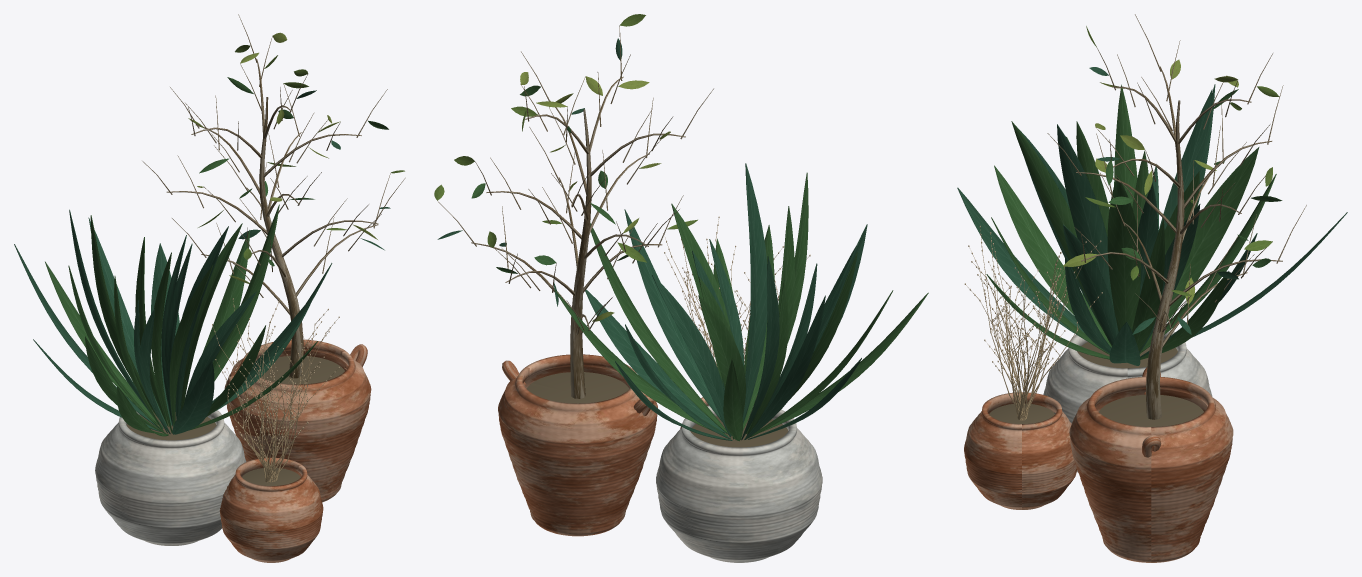
The model's file is U02_vasegroup.glb.
The picture shows the model from 3 angles, left to right: view 1: azimuth 30°, elevation 25°; view 2: azimuth 150°, elevation 25°; view 3: azimuth 270°, elevation 25°; orthographic projection. The views are drawn at different scales.
Parts seen in each view (by area): view 1: aged terracotta, leaf 0, weathered chalk clay, leaf 3, textured warm tree bark, dry tan seed twigs, pot soil, dry ochre seed capsules, leaf 2, leaf 1; view 2: leaf 3, aged terracotta, weathered chalk clay, leaf 0, textured warm tree bark, pot soil, leaf 1, leaf 2, dry tan seed twigs; view 3: aged terracotta, leaf 0, leaf 3, textured warm tree bark, weathered chalk clay, dry tan seed twigs, pot soil, dry ochre seed capsules, leaf 2, leaf 1.
Boxes of the visible parts, box(x1,y1,x2,y2) form: aged terracotta: box(219, 339, 371, 562); leaf 0: box(45, 77, 388, 436); weathered chalk clay: box(95, 410, 246, 545); leaf 3: box(14, 90, 390, 434); textured warm tree bark: box(142, 14, 405, 378); dry tan seed twigs: box(212, 301, 338, 482); pot soil: box(126, 356, 344, 485); dry ochre seed capsules: box(212, 298, 339, 451); leaf 2: box(188, 32, 377, 283); leaf 1: box(198, 45, 404, 259); leaf 3: box(437, 38, 867, 440); aged terracotta: box(498, 354, 708, 536); weathered chalk clay: box(656, 405, 822, 562); leaf 0: box(471, 85, 928, 441); textured warm tree bark: box(438, 25, 713, 398); pot soil: box(526, 372, 788, 447); leaf 1: box(434, 14, 697, 262); leaf 2: box(520, 72, 670, 321); dry tan seed twigs: box(665, 219, 809, 366); aged terracotta: box(964, 367, 1233, 562); leaf 0: box(986, 84, 1282, 359); leaf 3: box(957, 67, 1347, 365); textured warm tree bark: box(1047, 14, 1306, 419); weathered chalk clay: box(1043, 330, 1212, 472); dry tan seed twigs: box(966, 229, 1100, 420); pot soil: box(989, 340, 1203, 426); dry ochre seed capsules: box(964, 226, 1102, 391); leaf 2: box(1063, 59, 1238, 304); leaf 1: box(1085, 26, 1279, 295).
Size of the model in its own units: 1.44 by 1.62 by 1.15.
10 materials, 7 textured.
